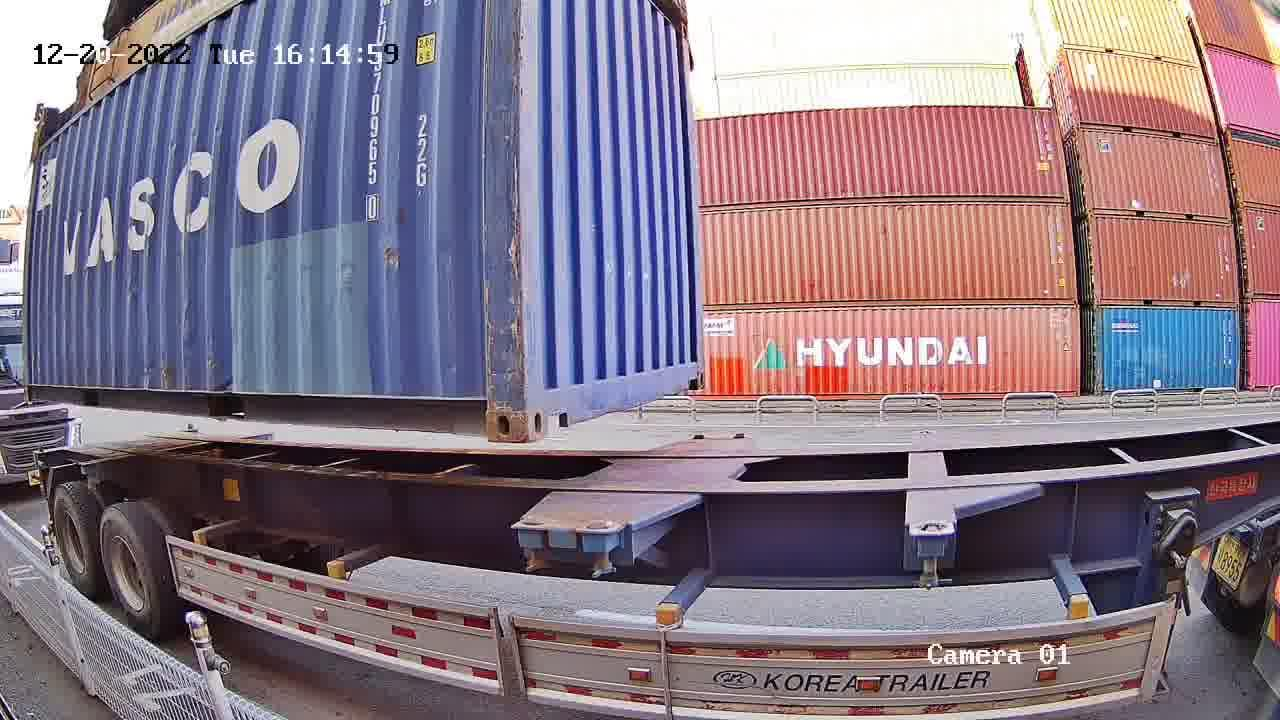Chassis: (516, 434, 713, 530), (583, 432, 754, 535)
Cone: (583, 519, 627, 582), (518, 515, 549, 573)
Hole_L: (529, 346, 587, 444)
Hole_R: (439, 359, 530, 443), (670, 340, 708, 391)
Tire: (101, 515, 156, 626), (50, 488, 96, 590)
